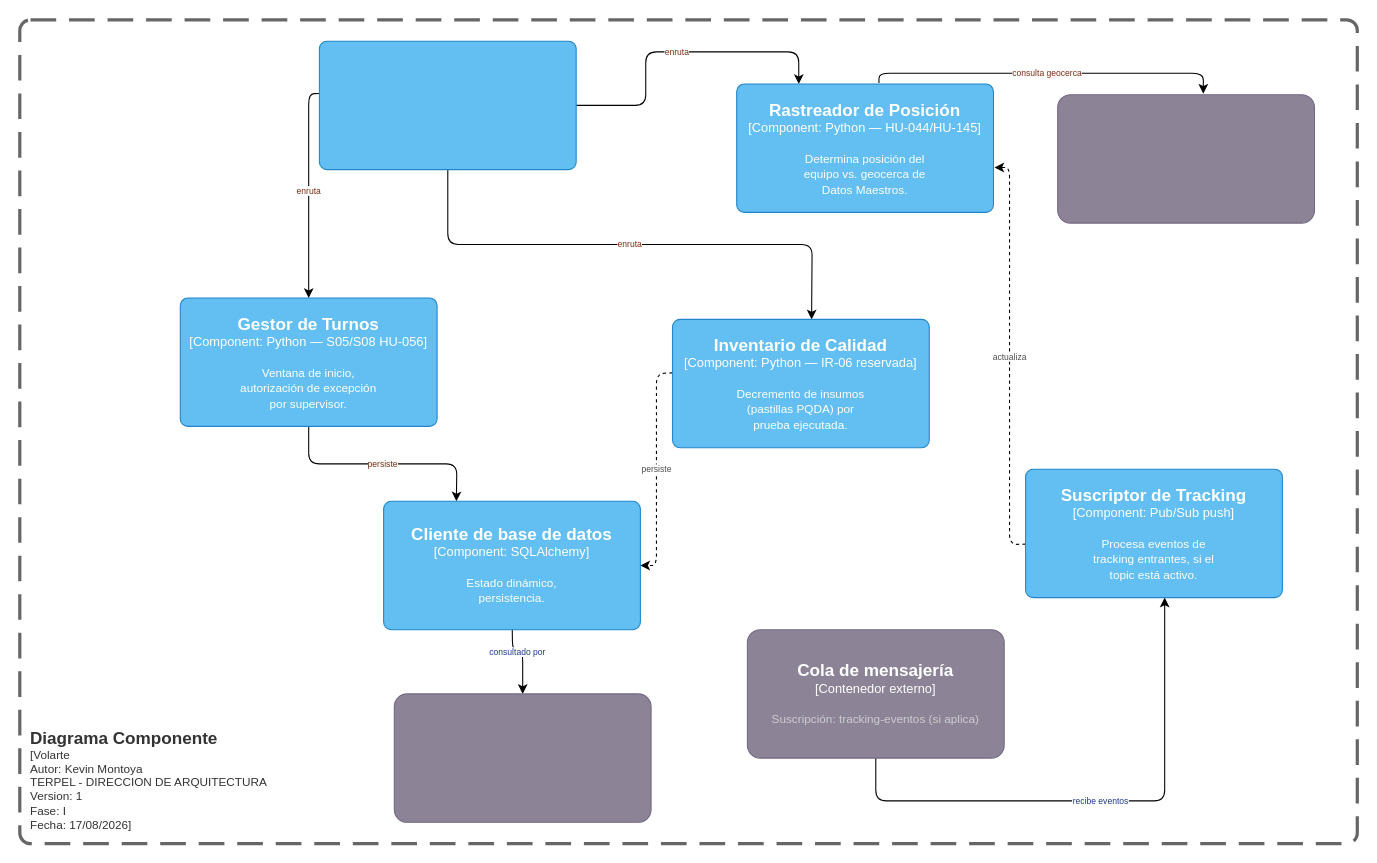
The diagram is 1377 pixels wide and 863 high, and some of its shapes have lost their labels. The box of each missing label's shape, as (x1, y1, x2, y2) in pixels:
API Router [Component: FastAPI] /roles · /permissions · /mapping · /audit: (318, 40, 576, 170)
BFF Web / BFF Móvil [Contenedores externos] Consumidores: (393, 693, 651, 822)
Svc: Datos Maestros [Contenedor externo] Geocerca (S02/HU-145): (1057, 94, 1314, 223)
